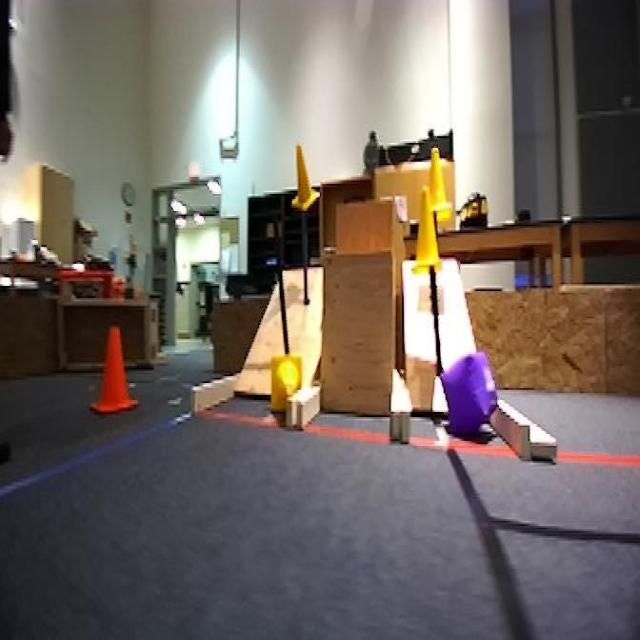frc_cone: (410, 188, 444, 272), (422, 148, 452, 223), (269, 352, 303, 416), (291, 143, 320, 213)
frc_cube: (440, 346, 498, 434)
